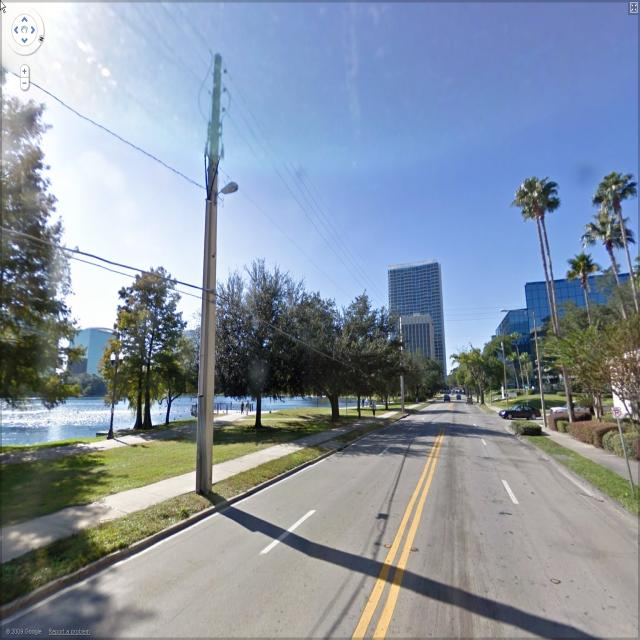b_1: (386, 259, 444, 360), (393, 310, 429, 365)
b_2: (489, 270, 635, 394), (61, 326, 130, 395)
